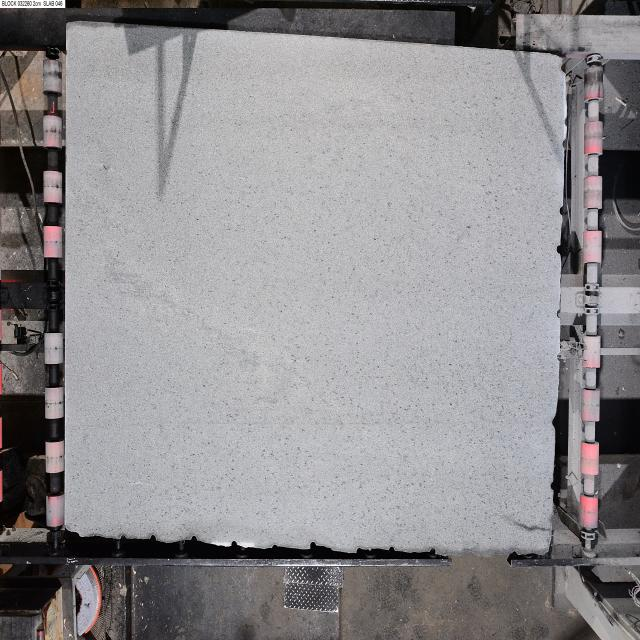chapa: (65, 22, 565, 555)
veio: (428, 546, 438, 558), (229, 540, 240, 550), (308, 541, 318, 552), (388, 545, 398, 555), (556, 241, 562, 256), (149, 534, 157, 544), (190, 534, 198, 544)
